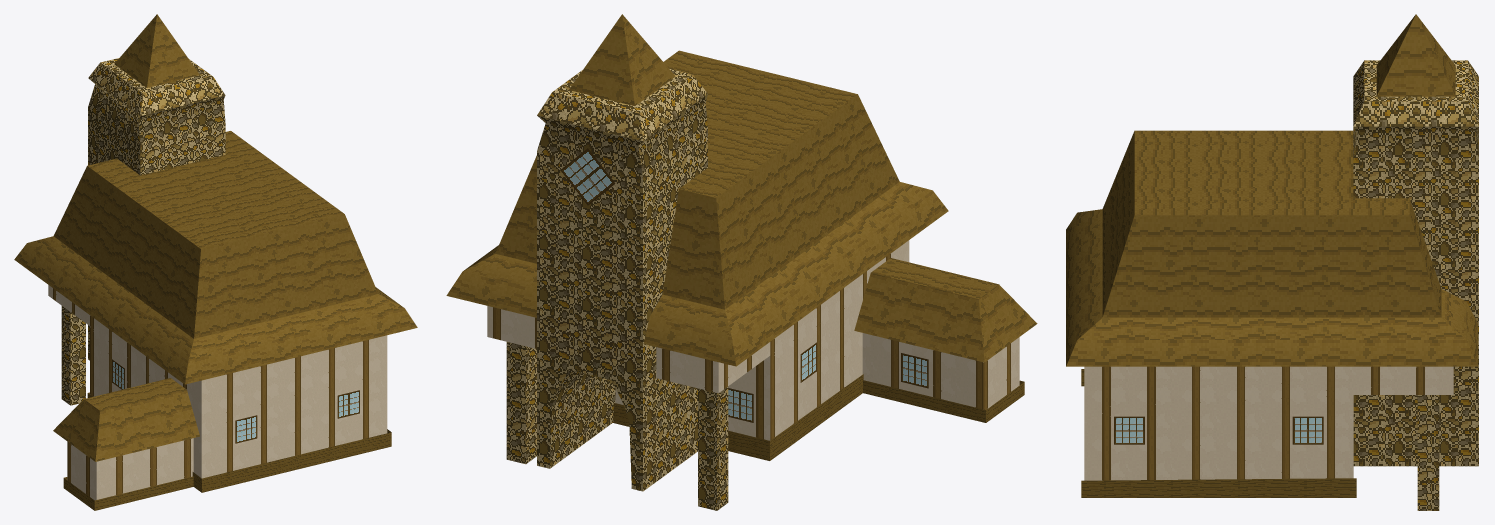
File: land_cityhall.fbx
3 renders of one model, left to right at view 1: azimuth 30°, elevation 25°; view 2: azimuth 150°, elevation 25°; view 3: azimuth 270°, elevation 25°, orthographic. The views are drawn at different scales.
Parts seen in each view (by area): view 1: Plane_2; view 2: Plane_2; view 3: Plane_2.
Part boxes in pixels (box(x1,y1,x2,y2)): Plane_2: box(14, 14, 417, 510); Plane_2: box(446, 14, 1037, 510); Plane_2: box(1066, 14, 1478, 510).
Size of the model in its own units: 1229 by 1392 by 1168.
Materials: 5 (5 with a texture image).
